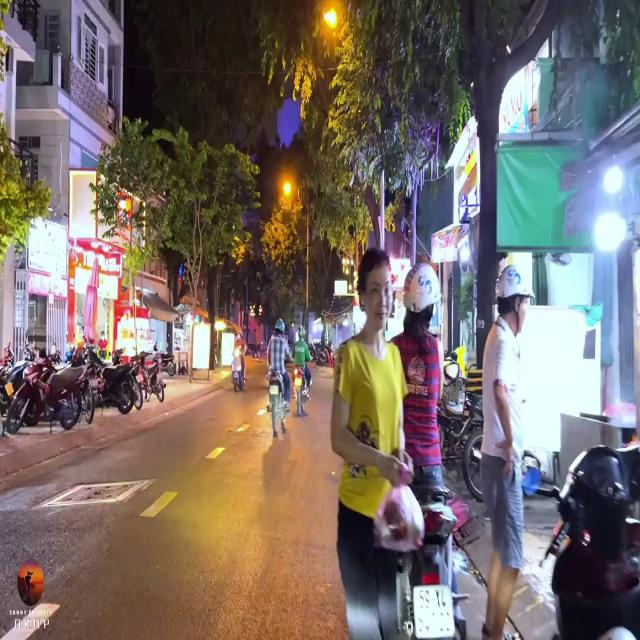bien_trang: (411, 586, 457, 636)
